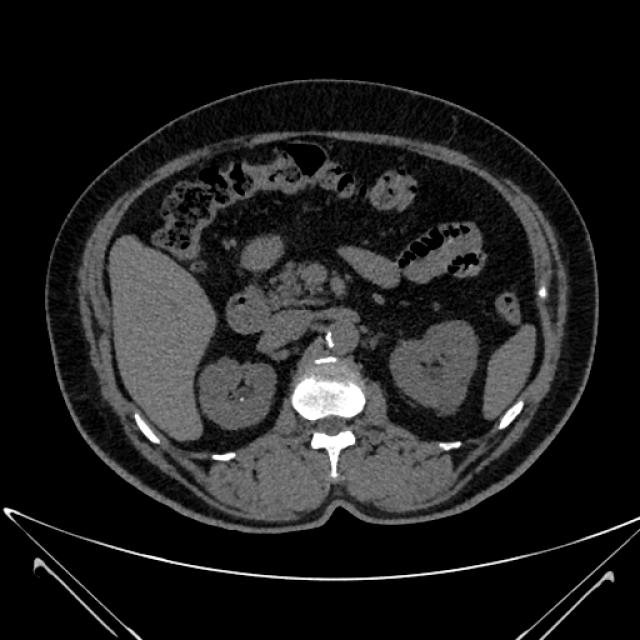kidney: (392, 342, 480, 415), (207, 363, 276, 429)
stone: (240, 397, 245, 401)
